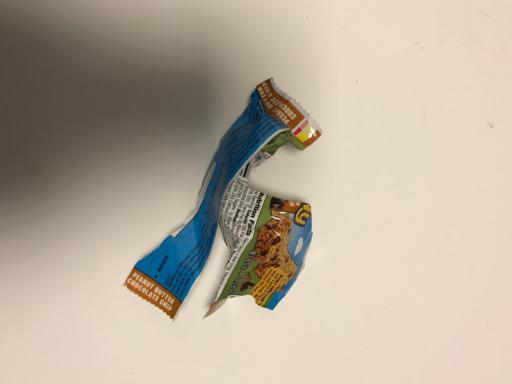trash: (120, 78, 318, 323)
